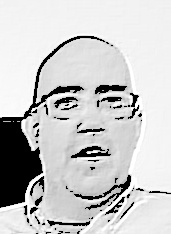nose_M_C: (75, 104, 109, 143)
